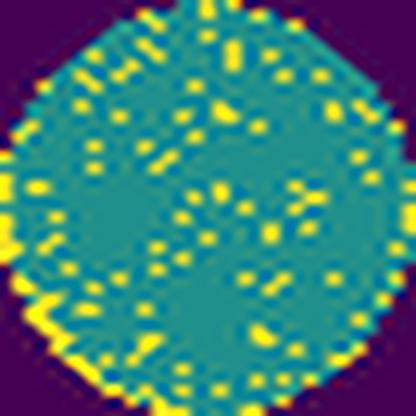Edge-Loc: (0, 267, 199, 416), (0, 169, 26, 267)
